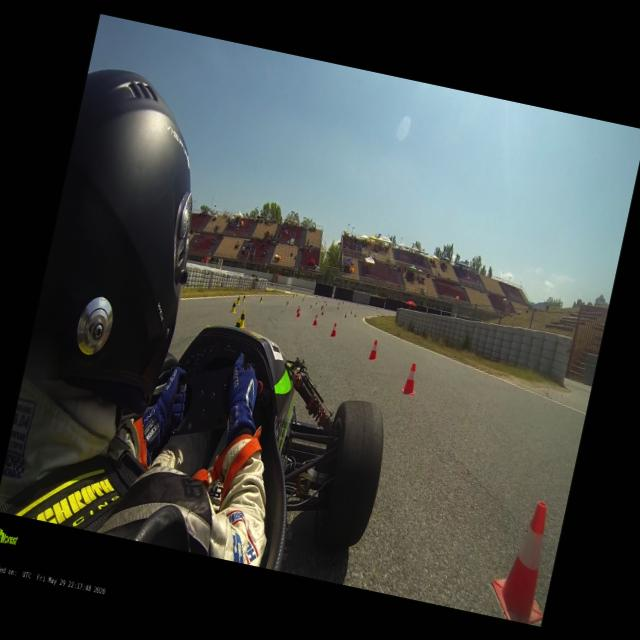orange_cone: (484, 496, 566, 626), (401, 361, 421, 396), (368, 339, 380, 360), (330, 322, 338, 337), (312, 314, 318, 326), (296, 308, 300, 317), (296, 304, 300, 312), (321, 309, 324, 315), (344, 312, 346, 318)
yellow_cone: (235, 308, 248, 328), (230, 300, 237, 313), (235, 316, 242, 328), (236, 294, 240, 304), (242, 294, 246, 302), (258, 296, 262, 302), (286, 300, 288, 306)
